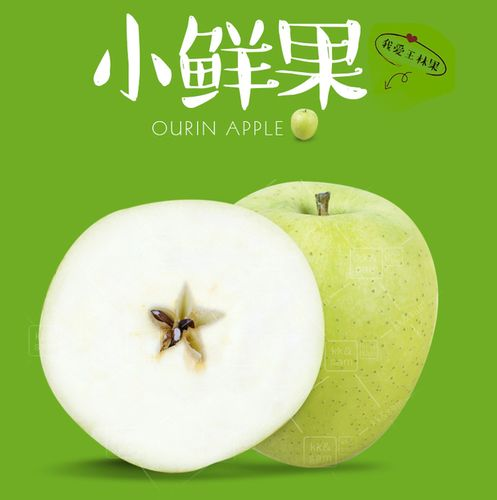unripe: (194, 154, 449, 485)
